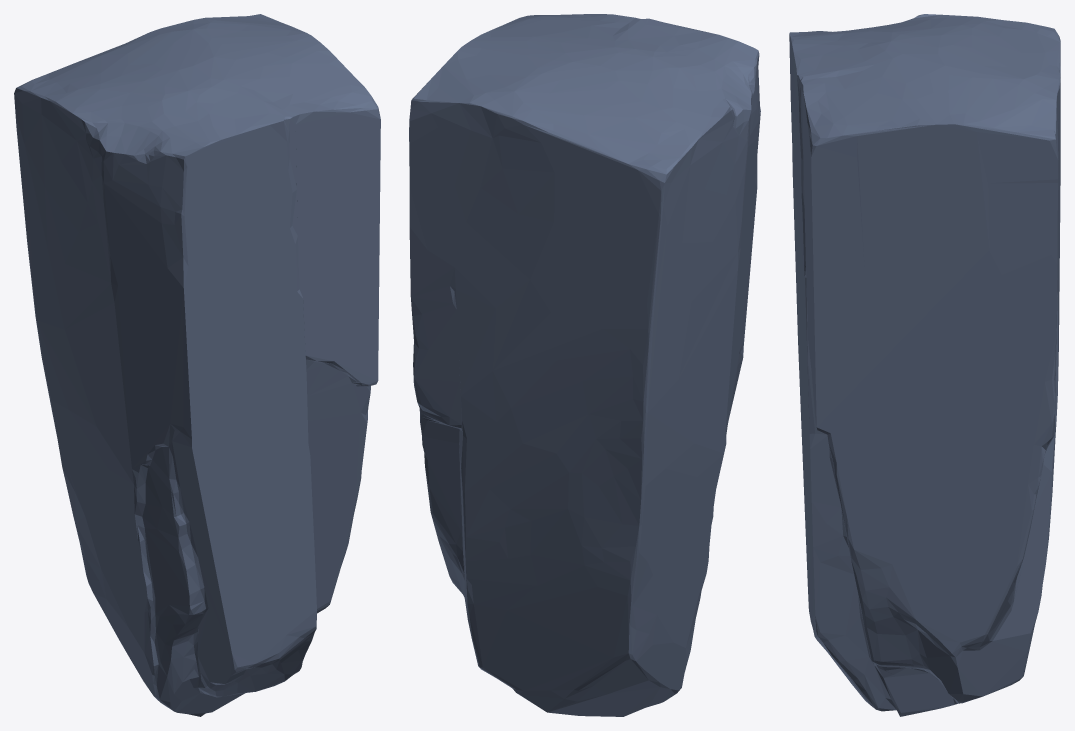
The picture shows the model from 3 angles, left to right: view 1: azimuth 30°, elevation 25°; view 2: azimuth 150°, elevation 25°; view 3: azimuth 270°, elevation 25°; orthographic projection. The views are drawn at different scales.
Parts seen in each view (by area): view 1: SM_GF_Cliff_Top_03_LOD0; view 2: SM_GF_Cliff_Top_03_LOD0; view 3: SM_GF_Cliff_Top_03_LOD0.
Boxes of the visible parts, x1,y1,x2,y2 form: SM_GF_Cliff_Top_03_LOD0: (14,14,380,716); SM_GF_Cliff_Top_03_LOD0: (409,14,760,716); SM_GF_Cliff_Top_03_LOD0: (789,14,1060,716).
Bounding box in the file's own units: 6.18 × 15.24 × 5.71.
